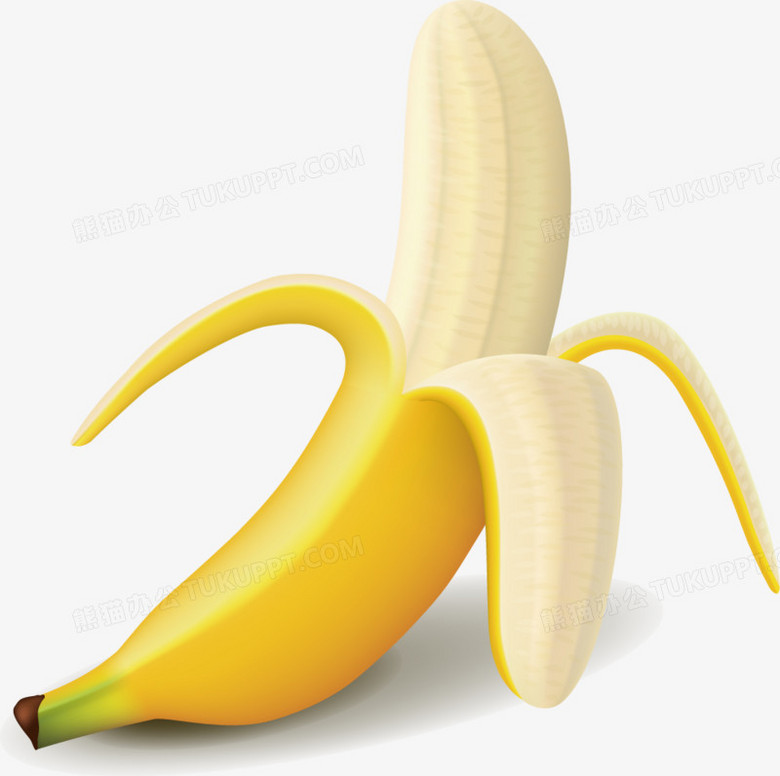banana: (47, 4, 766, 765)
